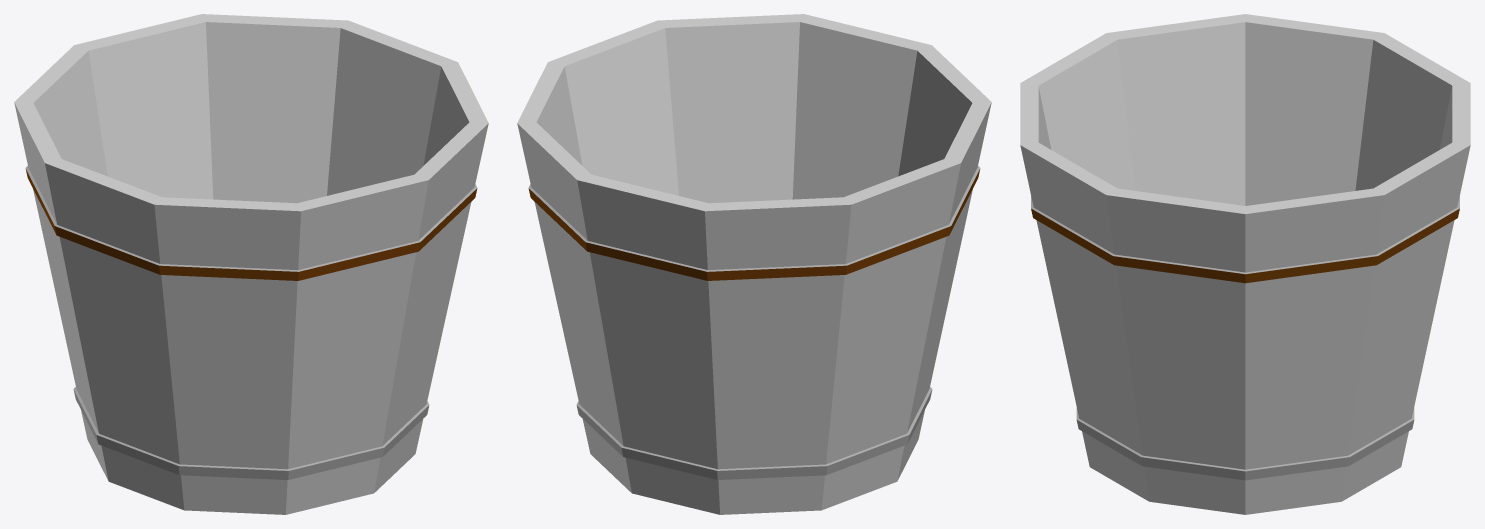
The picture shows the model from 3 angles, left to right: view 1: azimuth 30°, elevation 25°; view 2: azimuth 150°, elevation 25°; view 3: azimuth 270°, elevation 25°; orthographic projection.
Parts seen in each view (by area): view 1: Component#1_010, Component#1_001, Component#1_009, Component#1_005, Component#1_006, Component#1_004, Component#1_002, Component#1_007, Component#1_008, Component#1_003, Component#2_010, Component#2_001 (+6 smaller); view 2: Component#1_007, Component#1_006, Component#1_008, Component#1_002, Component#1_001, Component#1_003, Component#1_005, Component#1_010, Component#1_009, Component#1_004, Component#2_007, Component#2_006 (+6 smaller); view 3: Component#1_004, Component#1_003, Component#1_009, Component#1_008, Component#1_005, Component#1_002, Component#1_010, Component#1_007, Component#2_003, Component#2_004, Component#1_006, Component#1_001 (+6 smaller).
Boxes of the visible parts, x1,y1,x2,y2 form: Component#1_010: [154, 197, 300, 514]; Component#1_001: [285, 174, 428, 514]; Component#1_009: [45, 159, 184, 509]; Component#1_005: [202, 14, 348, 203]; Component#1_006: [74, 14, 213, 199]; Component#1_004: [327, 20, 457, 195]; Component#1_002: [374, 122, 488, 492]; Component#1_007: [14, 45, 107, 176]; Component#1_008: [14, 102, 108, 480]; Component#1_003: [423, 62, 488, 165]; Component#2_010: [159, 264, 298, 280]; Component#2_001: [298, 241, 420, 280]; Component#1_007: [705, 197, 851, 514]; Component#1_006: [577, 174, 720, 514]; Component#1_008: [821, 159, 960, 509]; Component#1_002: [657, 14, 803, 203]; Component#1_001: [792, 14, 931, 199]; Component#1_003: [548, 20, 678, 195]; Component#1_005: [517, 122, 631, 492]; Component#1_010: [898, 45, 991, 176]; Component#1_009: [897, 102, 991, 480]; Component#1_004: [517, 62, 582, 165]; Component#2_007: [707, 264, 846, 280]; Component#2_006: [585, 241, 707, 280]; Component#1_004: [1245, 188, 1384, 514]; Component#1_003: [1106, 188, 1245, 514]; Component#1_009: [1106, 14, 1245, 205]; Component#1_008: [1245, 14, 1384, 205]; Component#1_005: [1342, 142, 1470, 501]; Component#1_002: [1020, 142, 1148, 501]; Component#1_010: [1020, 33, 1135, 190]; Component#1_007: [1355, 33, 1470, 190]; Component#2_003: [1113, 254, 1245, 283]; Component#2_004: [1245, 254, 1377, 283]; Component#1_006: [1439, 83, 1470, 149]; Component#1_001: [1020, 83, 1051, 149].
Bounding box in the file's own units: 21.13 × 16.33 × 20.1.
